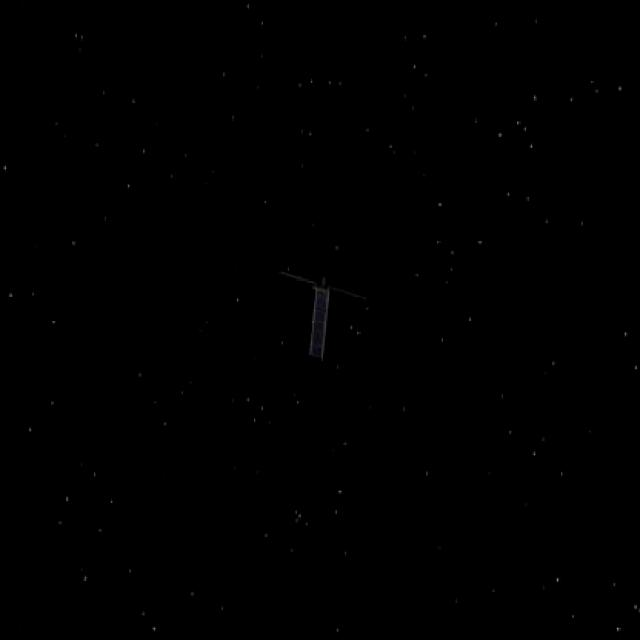medium_debris: (271, 254, 385, 373)
